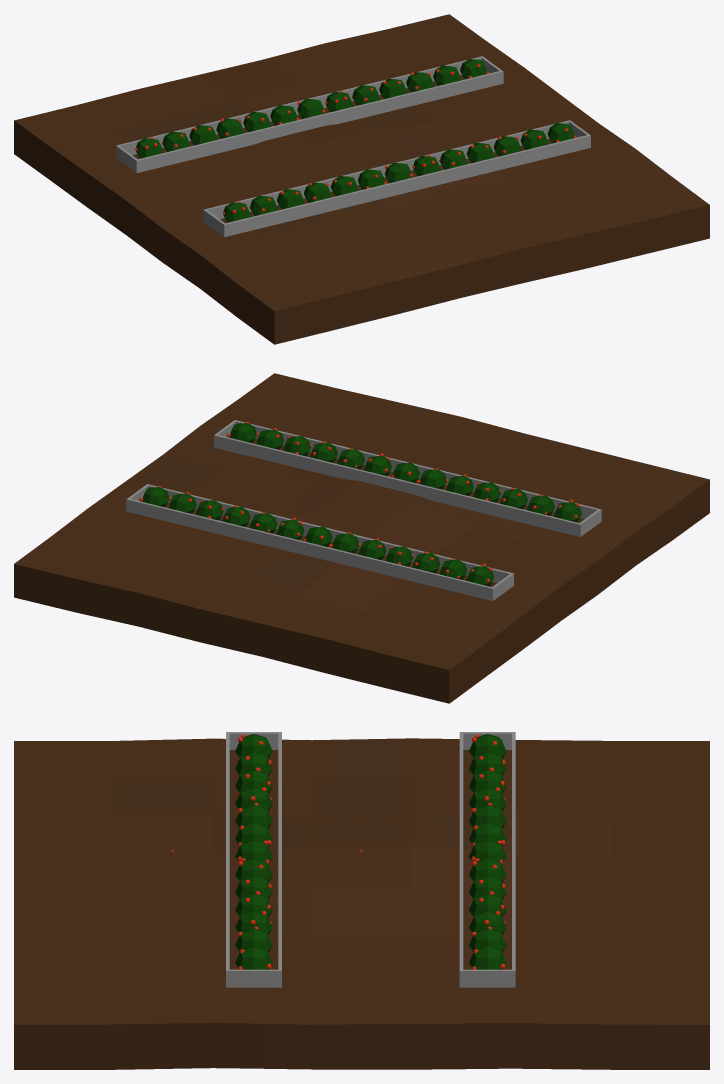
File: Clubnic.fbx
3 views of the same model, one above another, from view 1: azimuth 30°, elevation 25°; view 2: azimuth 150°, elevation 25°; view 3: azimuth 270°, elevation 25° (orthographic). The views are drawn at different scales.
Parts seen in each view (by area): view 1: Cube.004; view 2: Cube.004; view 3: Cube.004.
Boxes of the visible parts, x1,y1,x2,y2 form: Cube.004: (14, 14, 709, 344); Cube.004: (14, 373, 709, 703); Cube.004: (14, 732, 709, 1069).
Bounding box in the file's own units: 1508 × 211 × 1563.
